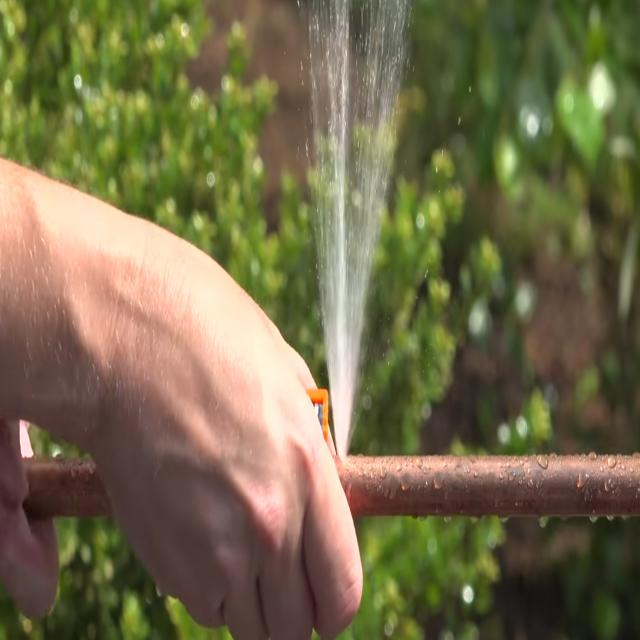leak: (309, 0, 410, 458)
